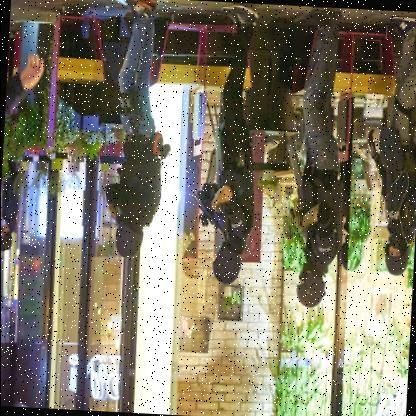rifle: (189, 184, 231, 238), (404, 102, 416, 140)
